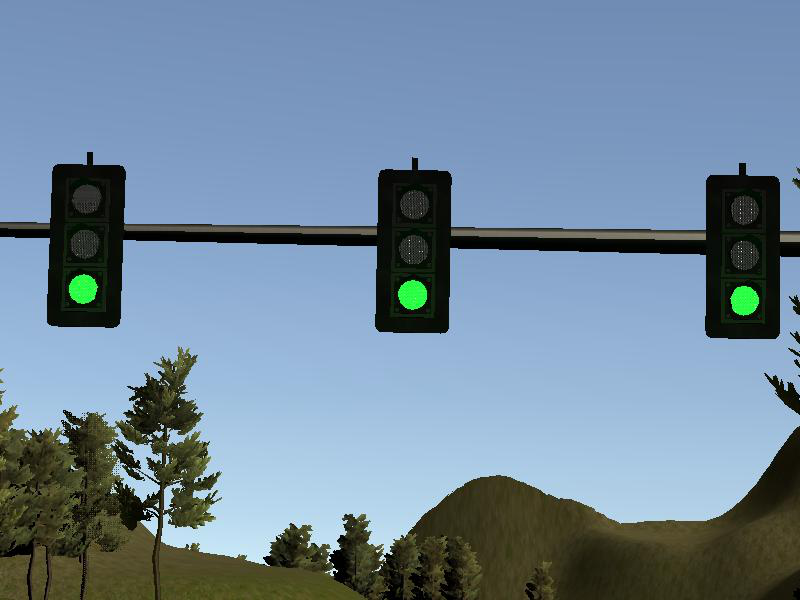green: (706, 173, 781, 340), (376, 168, 450, 333), (51, 162, 123, 327)
